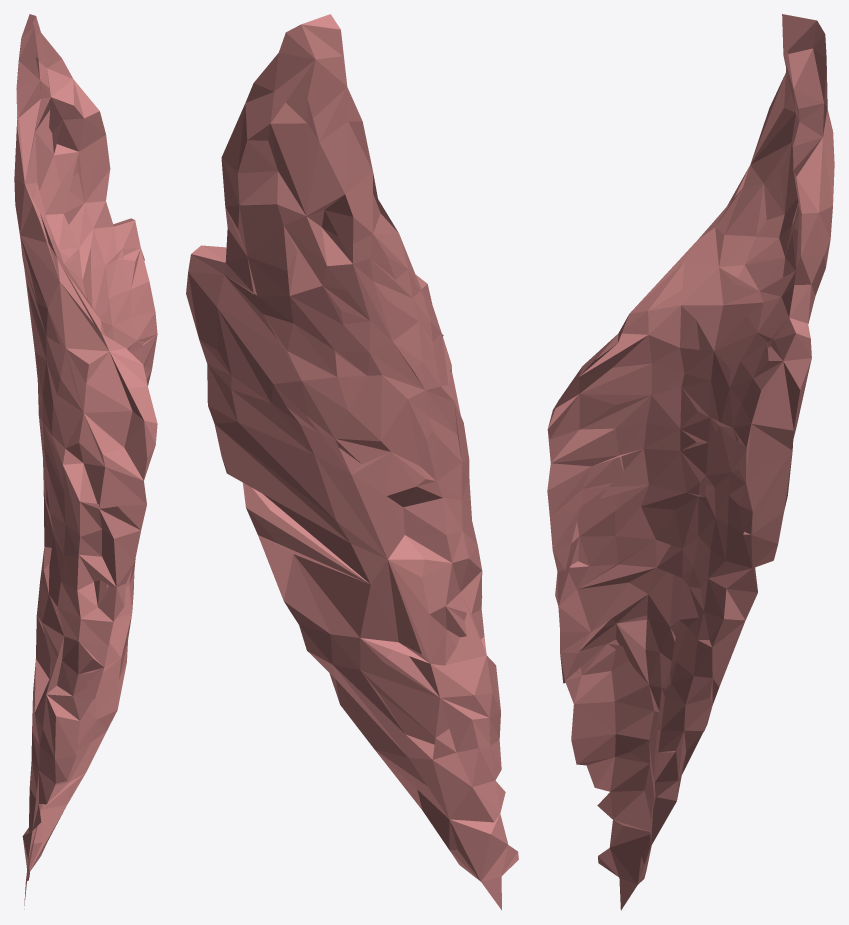
The model's file is Supinator.r.glb.
3 views of the same model, side by side, from view 1: azimuth 30°, elevation 25°; view 2: azimuth 150°, elevation 25°; view 3: azimuth 270°, elevation 25° (orthographic). The views are drawn at different scales.
Parts seen in each view (by area): view 1: Supinator.r; view 2: Supinator.r; view 3: Supinator.r.
Boxes of the visible parts, left/top/right/bottom form: Supinator.r: left=14, top=14, right=157, bottom=909; Supinator.r: left=186, top=14, right=518, bottom=910; Supinator.r: left=547, top=14, right=834, bottom=910.
Bounding box in the file's own units: 0.0326 × 0.1247 × 0.0345.
